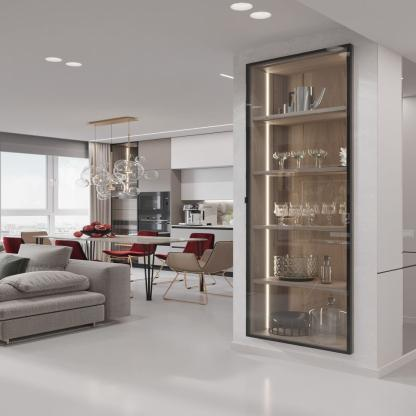Ceramic floor: (0, 289, 416, 416)
Cupboard: (244, 45, 354, 357)
Curtains: (89, 142, 117, 231)
Dining Table: (17, 222, 235, 270)
